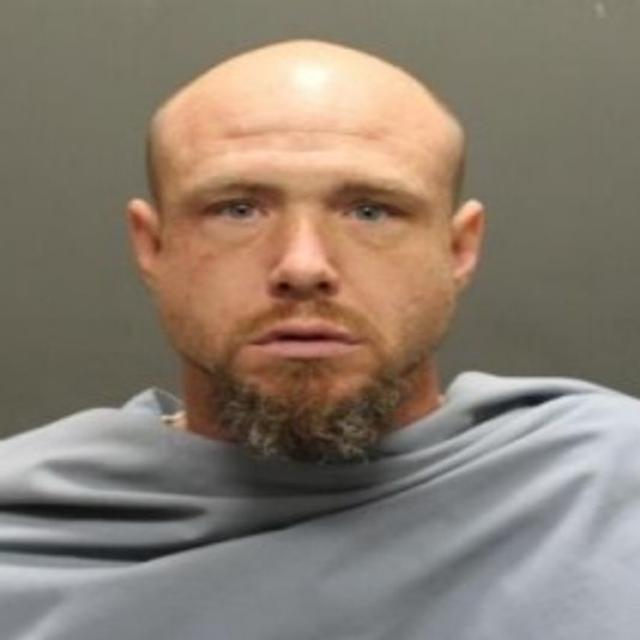human: (2, 33, 640, 640)
